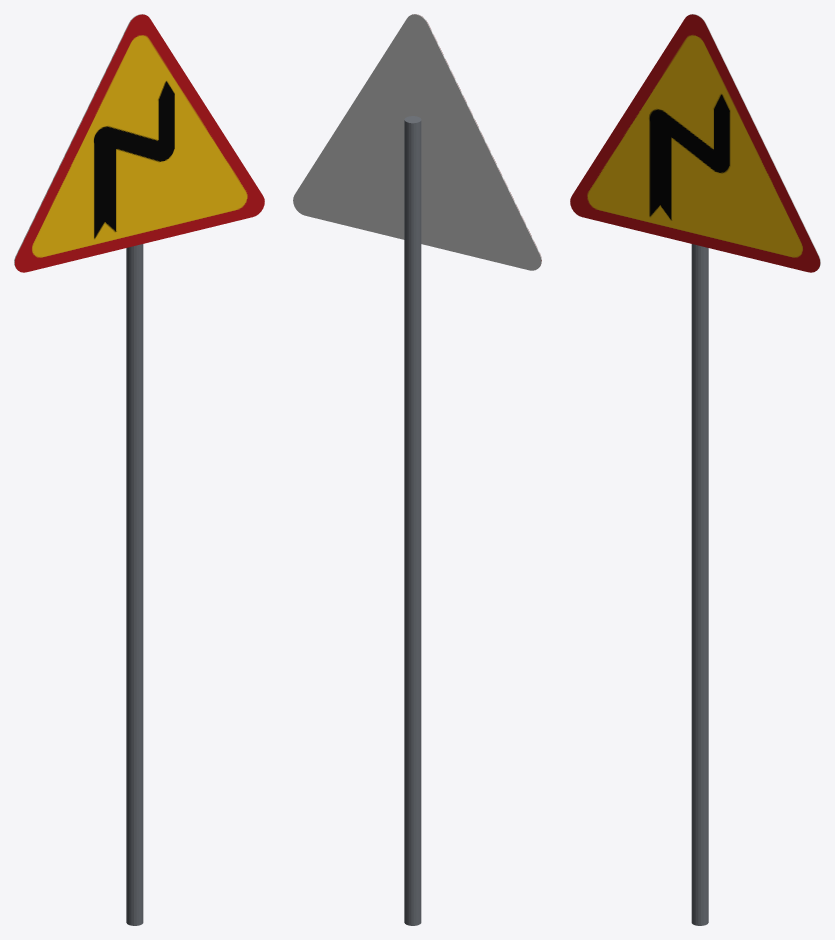
Rendered from warning_sign.obj.
3 renders of one model, left to right at view 1: azimuth 30°, elevation 25°; view 2: azimuth 150°, elevation 25°; view 3: azimuth 330°, elevation 25°, orthographic.
Parts seen in each view (by area): view 1: cara, poste; view 2: placa, poste; view 3: cara, poste.
Boxes of the visible parts, <box> form: cara: <box>14,14,264,272</box>; poste: <box>126,244,143,925</box>; placa: <box>293,14,541,270</box>; poste: <box>404,116,421,925</box>; cara: <box>570,14,820,272</box>; poste: <box>691,244,708,925</box>.
Bounding box in the file's own units: 0.8414 × 2.93 × 0.0535.
3 materials, 1 textured.
